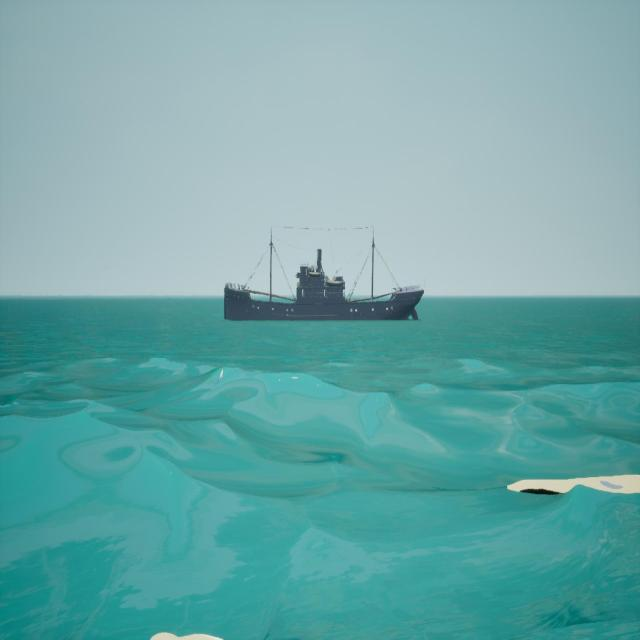fishing ship: (226, 227, 426, 323)
